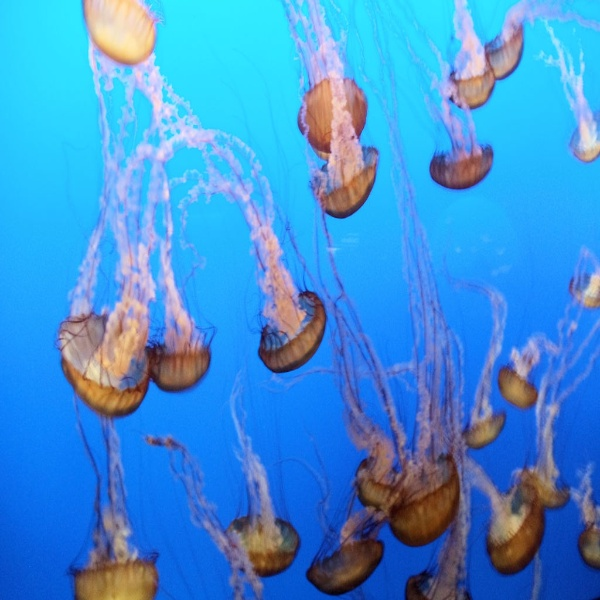Jellyfish: (56, 0, 599, 599), (78, 0, 164, 65)
